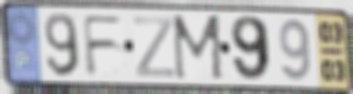9: (230, 14, 274, 85), (42, 12, 82, 79), (277, 16, 313, 84)
F: (80, 14, 126, 79)
M: (170, 13, 226, 84)
Z: (132, 14, 176, 80)
